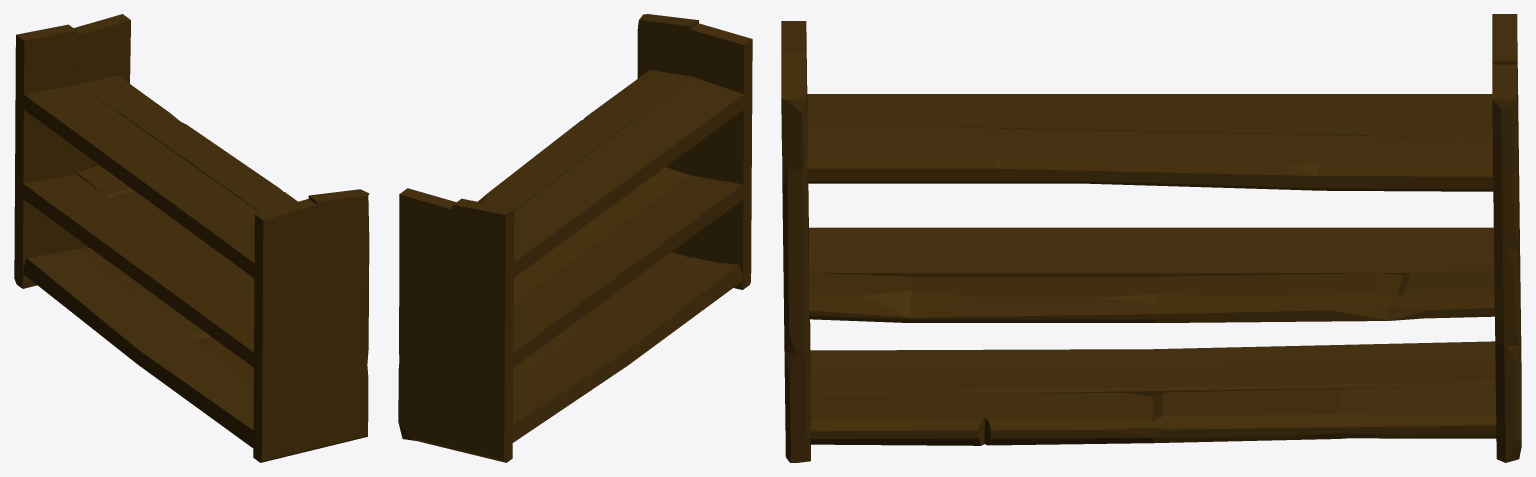
The model's file is Shelf.fbx.
3 views of the same model, side by side, from view 1: azimuth 30°, elevation 25°; view 2: azimuth 150°, elevation 25°; view 3: azimuth 270°, elevation 25° (orthographic). The views are drawn at different scales.
Visible parts, largest first — view 1: Cube.009, Cube.003, Cube.002, Cube.006, Cube.010; view 2: Cube.010, Cube.003, Cube.002, Cube.006, Cube.009; view 3: Cube.006, Cube.002, Cube.003, Cube.010, Cube.009.
Part boxes in pixels (x1,y1,x2,y2): Cube.009: [253, 189, 369, 462]; Cube.003: [24, 75, 297, 277]; Cube.002: [22, 165, 254, 367]; Cube.006: [23, 248, 253, 447]; Cube.010: [14, 14, 130, 288]; Cube.010: [398, 188, 514, 462]; Cube.003: [478, 70, 743, 278]; Cube.002: [512, 167, 743, 367]; Cube.006: [512, 252, 742, 442]; Cube.009: [637, 14, 752, 289]; Cube.006: [810, 341, 1496, 445]; Cube.002: [809, 227, 1494, 322]; Cube.003: [807, 94, 1493, 191]; Cube.010: [1492, 14, 1521, 462]; Cube.009: [781, 21, 810, 462].
Size of the model in its own units: 199 by 441 by 795.
